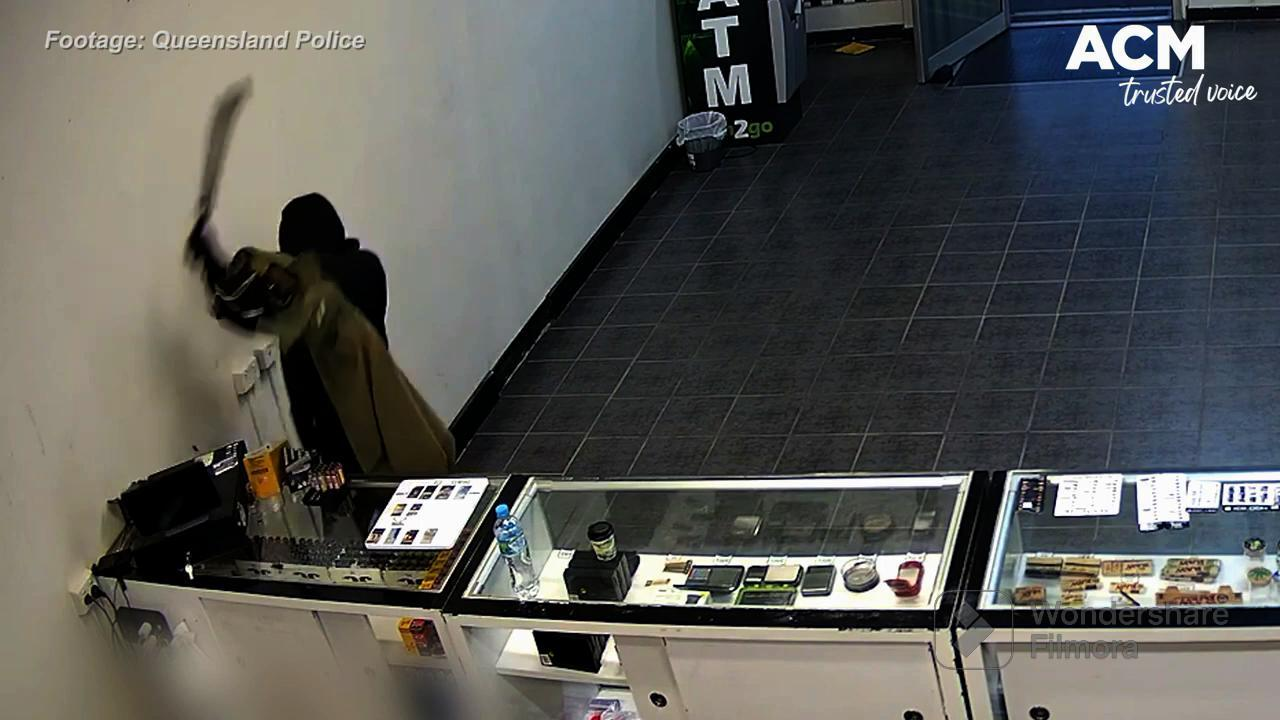melee: (186, 68, 257, 250)
